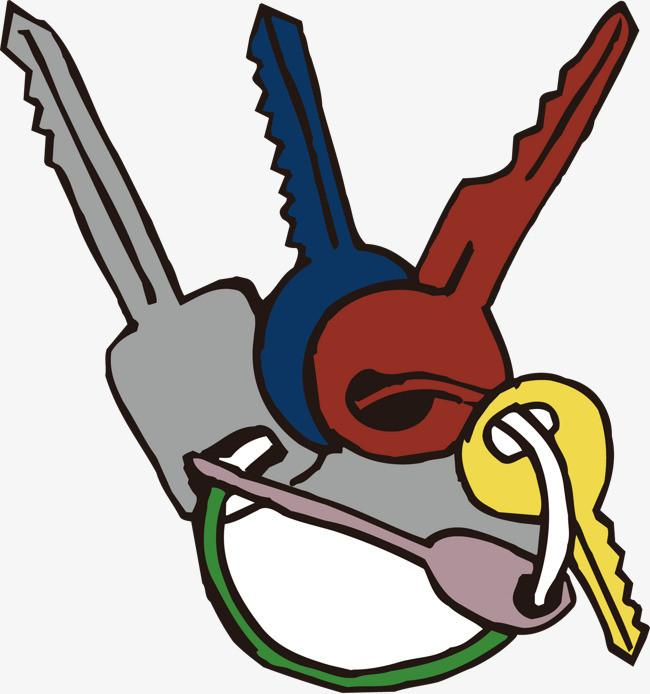key: (1, 2, 340, 532), (295, 1, 650, 466), (216, 4, 472, 477), (184, 441, 584, 658), (447, 358, 650, 669)
